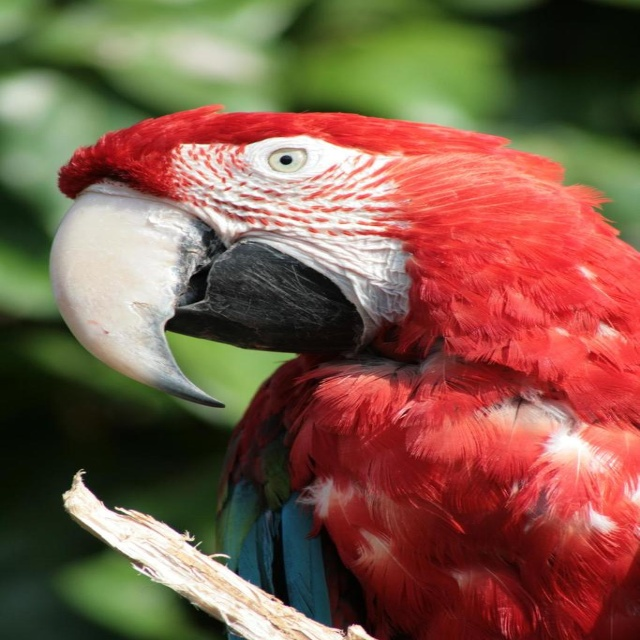Parrot: (40, 96, 639, 640)
